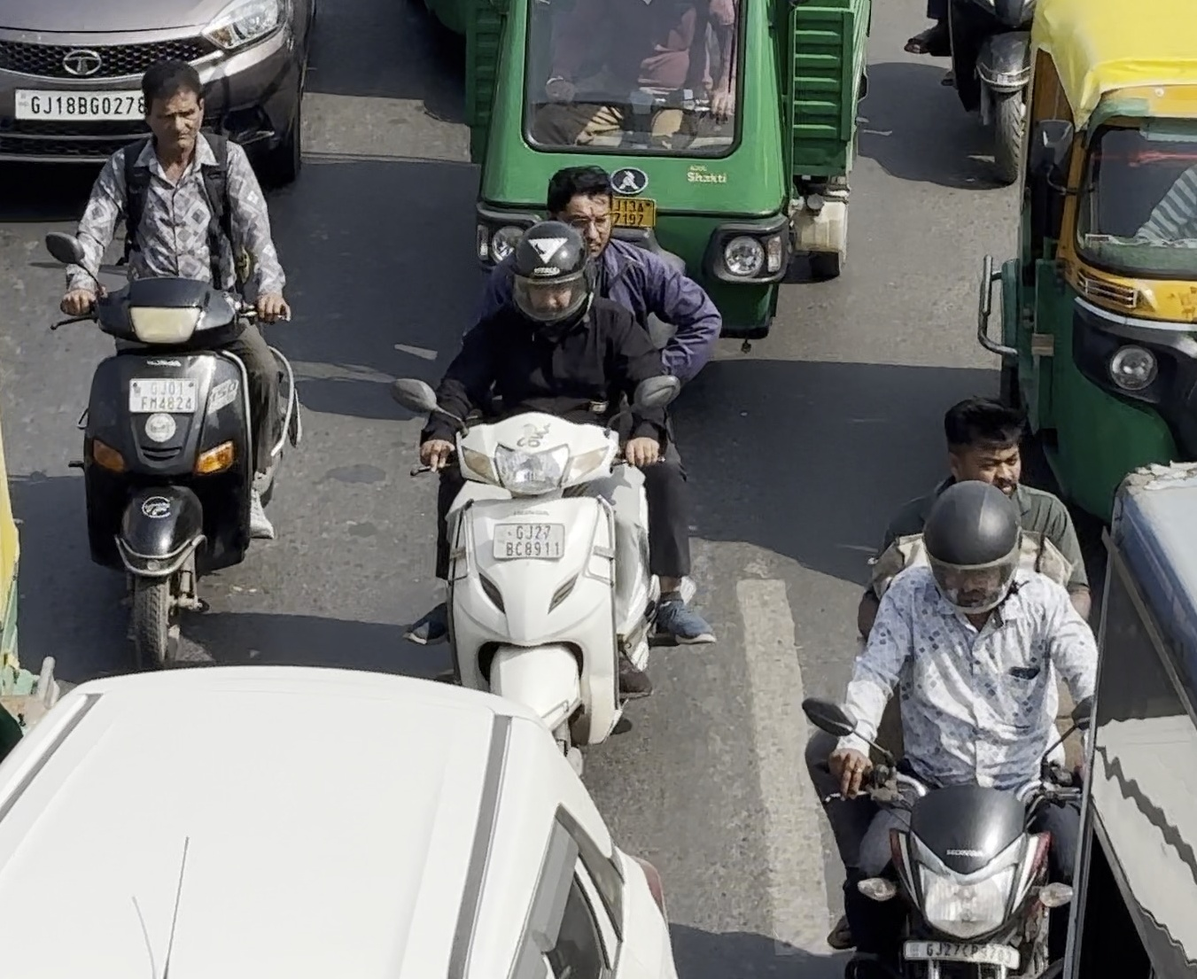BikeWithRider: (378, 154, 723, 812), (788, 390, 1115, 979), (35, 56, 311, 675)
Helmet: (912, 473, 1039, 620), (494, 222, 607, 334)
NoHelmet: (924, 385, 1041, 514), (534, 157, 626, 268), (132, 58, 217, 156)
